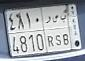0: (35, 16, 45, 51)
R: (45, 16, 54, 48)
